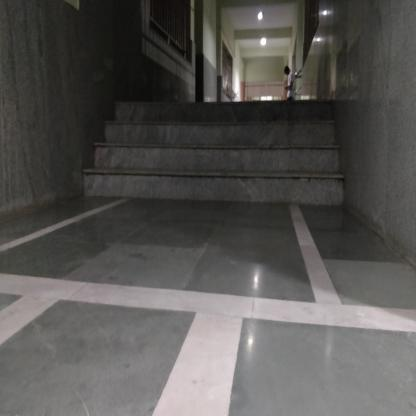stairs: (120, 99, 321, 211)
